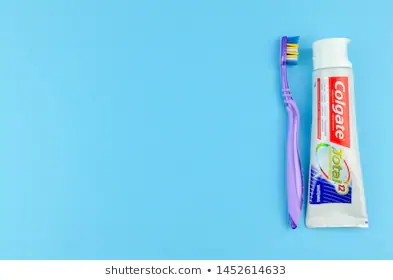colgate-total-150gm: (302, 35, 369, 232)
toothbrush: (280, 29, 307, 232)
